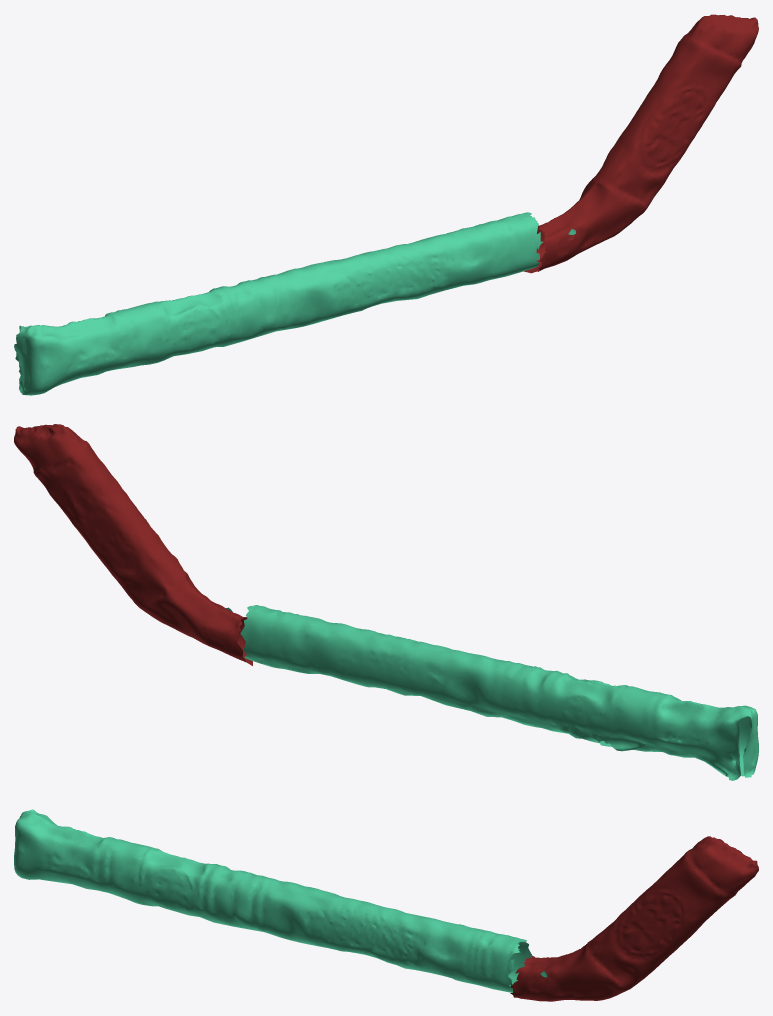
The model's file is object_deformed_3.obj.
3 renders of one model, top to bottom at view 1: azimuth 30°, elevation 25°; view 2: azimuth 150°, elevation 25°; view 3: azimuth 330°, elevation 25°, orthographic. The views are drawn at different scales.
Size of the model in its own units: 0.5988 by 0.1568 by 0.0485.
